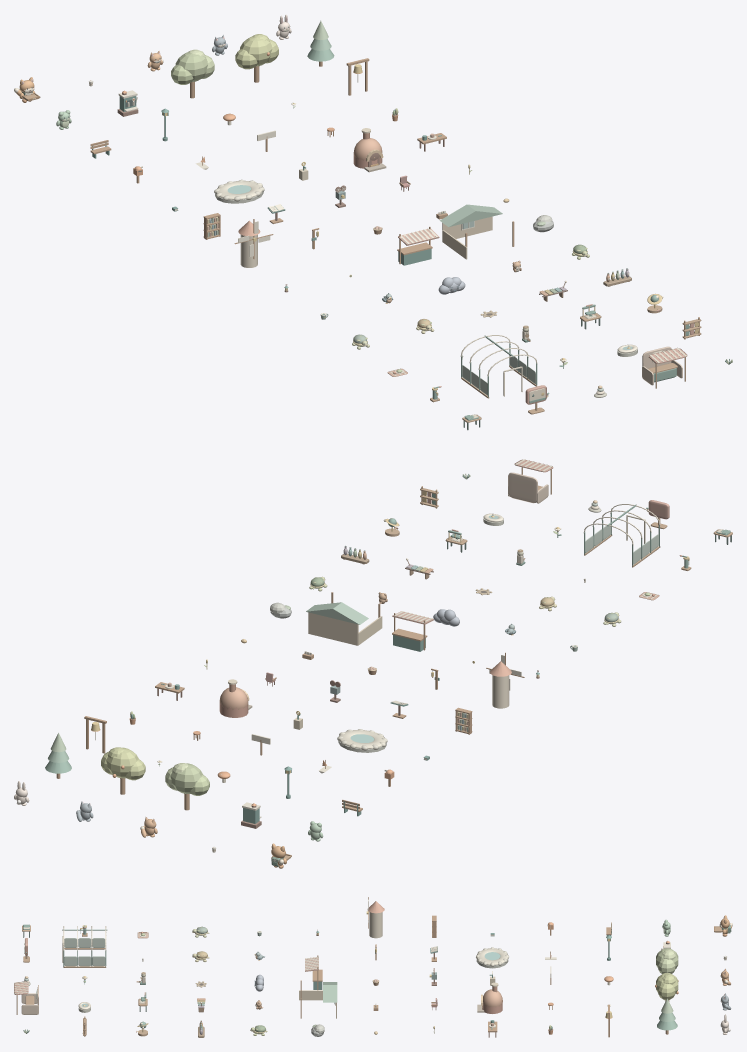
The model's file is orbit-assets.glb.
3 renders of one model, top to bottom at view 1: azimuth 30°, elevation 25°; view 2: azimuth 150°, elevation 25°; view 3: azimuth 270°, elevation 25°, orthographic. The views are drawn at different scales.
Parts seen in each view (by area): view 1: cutaway_roof; view 2: back_wall (×2), cutaway_roof; view 3: tower, cutaway_roof, rounded_rim, dome, left_wall.
Boxes of the visible parts, left/top/right/bottom form: cutaway_roof: left=439, top=204, right=502, bottom=227; back_wall (×2): left=308, top=472, right=537, bottom=645; cutaway_roof: left=306, top=602, right=368, bottom=624; tower: left=369, top=912, right=382, bottom=938; cutaway_roof: left=323, top=982, right=337, bottom=1002; rounded_rim: left=476, top=948, right=508, bottom=965; dome: left=483, top=989, right=502, bottom=1007; left_wall: left=299, top=990, right=322, bottom=1000.
Bounding box in the file's own units: 31.48 × 5.61 × 86.41.
